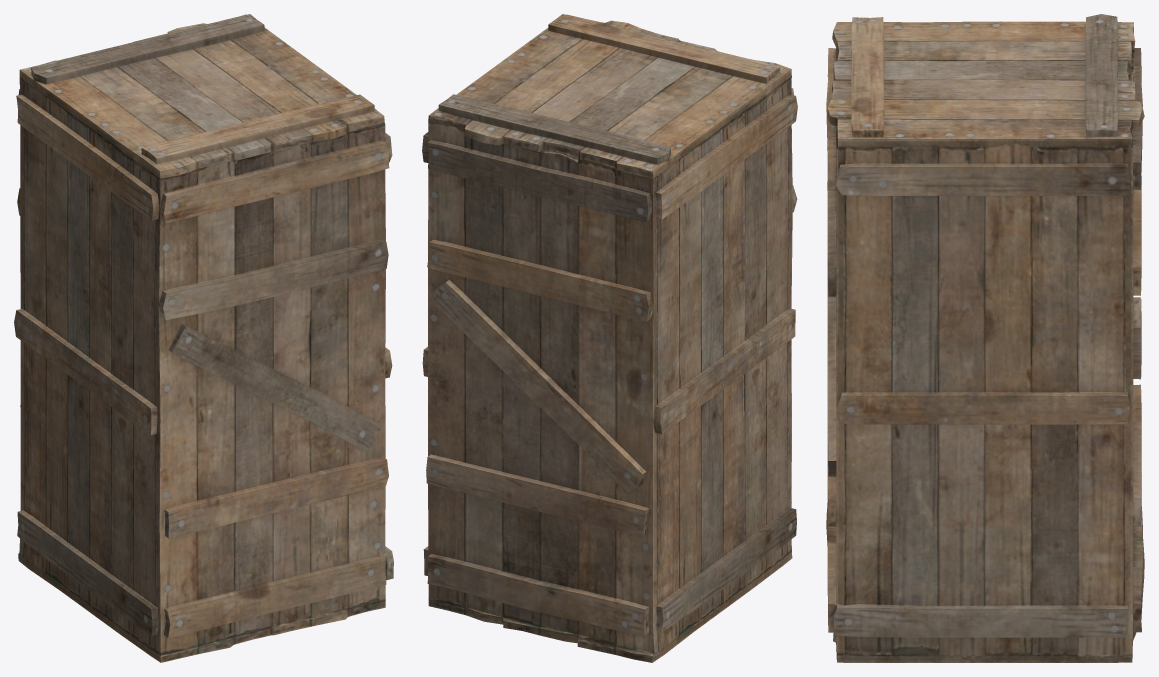
Rendered from wooden box.fbx.
3 views of the same model, side by side, from view 1: azimuth 30°, elevation 25°; view 2: azimuth 150°, elevation 25°; view 3: azimuth 270°, elevation 25° (orthographic). The views are drawn at different scales.
Visible parts, largest first — view 1: box; view 2: box; view 3: box.
Part boxes in pixels (<box>): box: <box>14,14,393,662</box>; box: <box>422,14,797,662</box>; box: <box>826,14,1144,662</box>.
Size of the model in its own units: 78.24 by 156 by 84.51.
